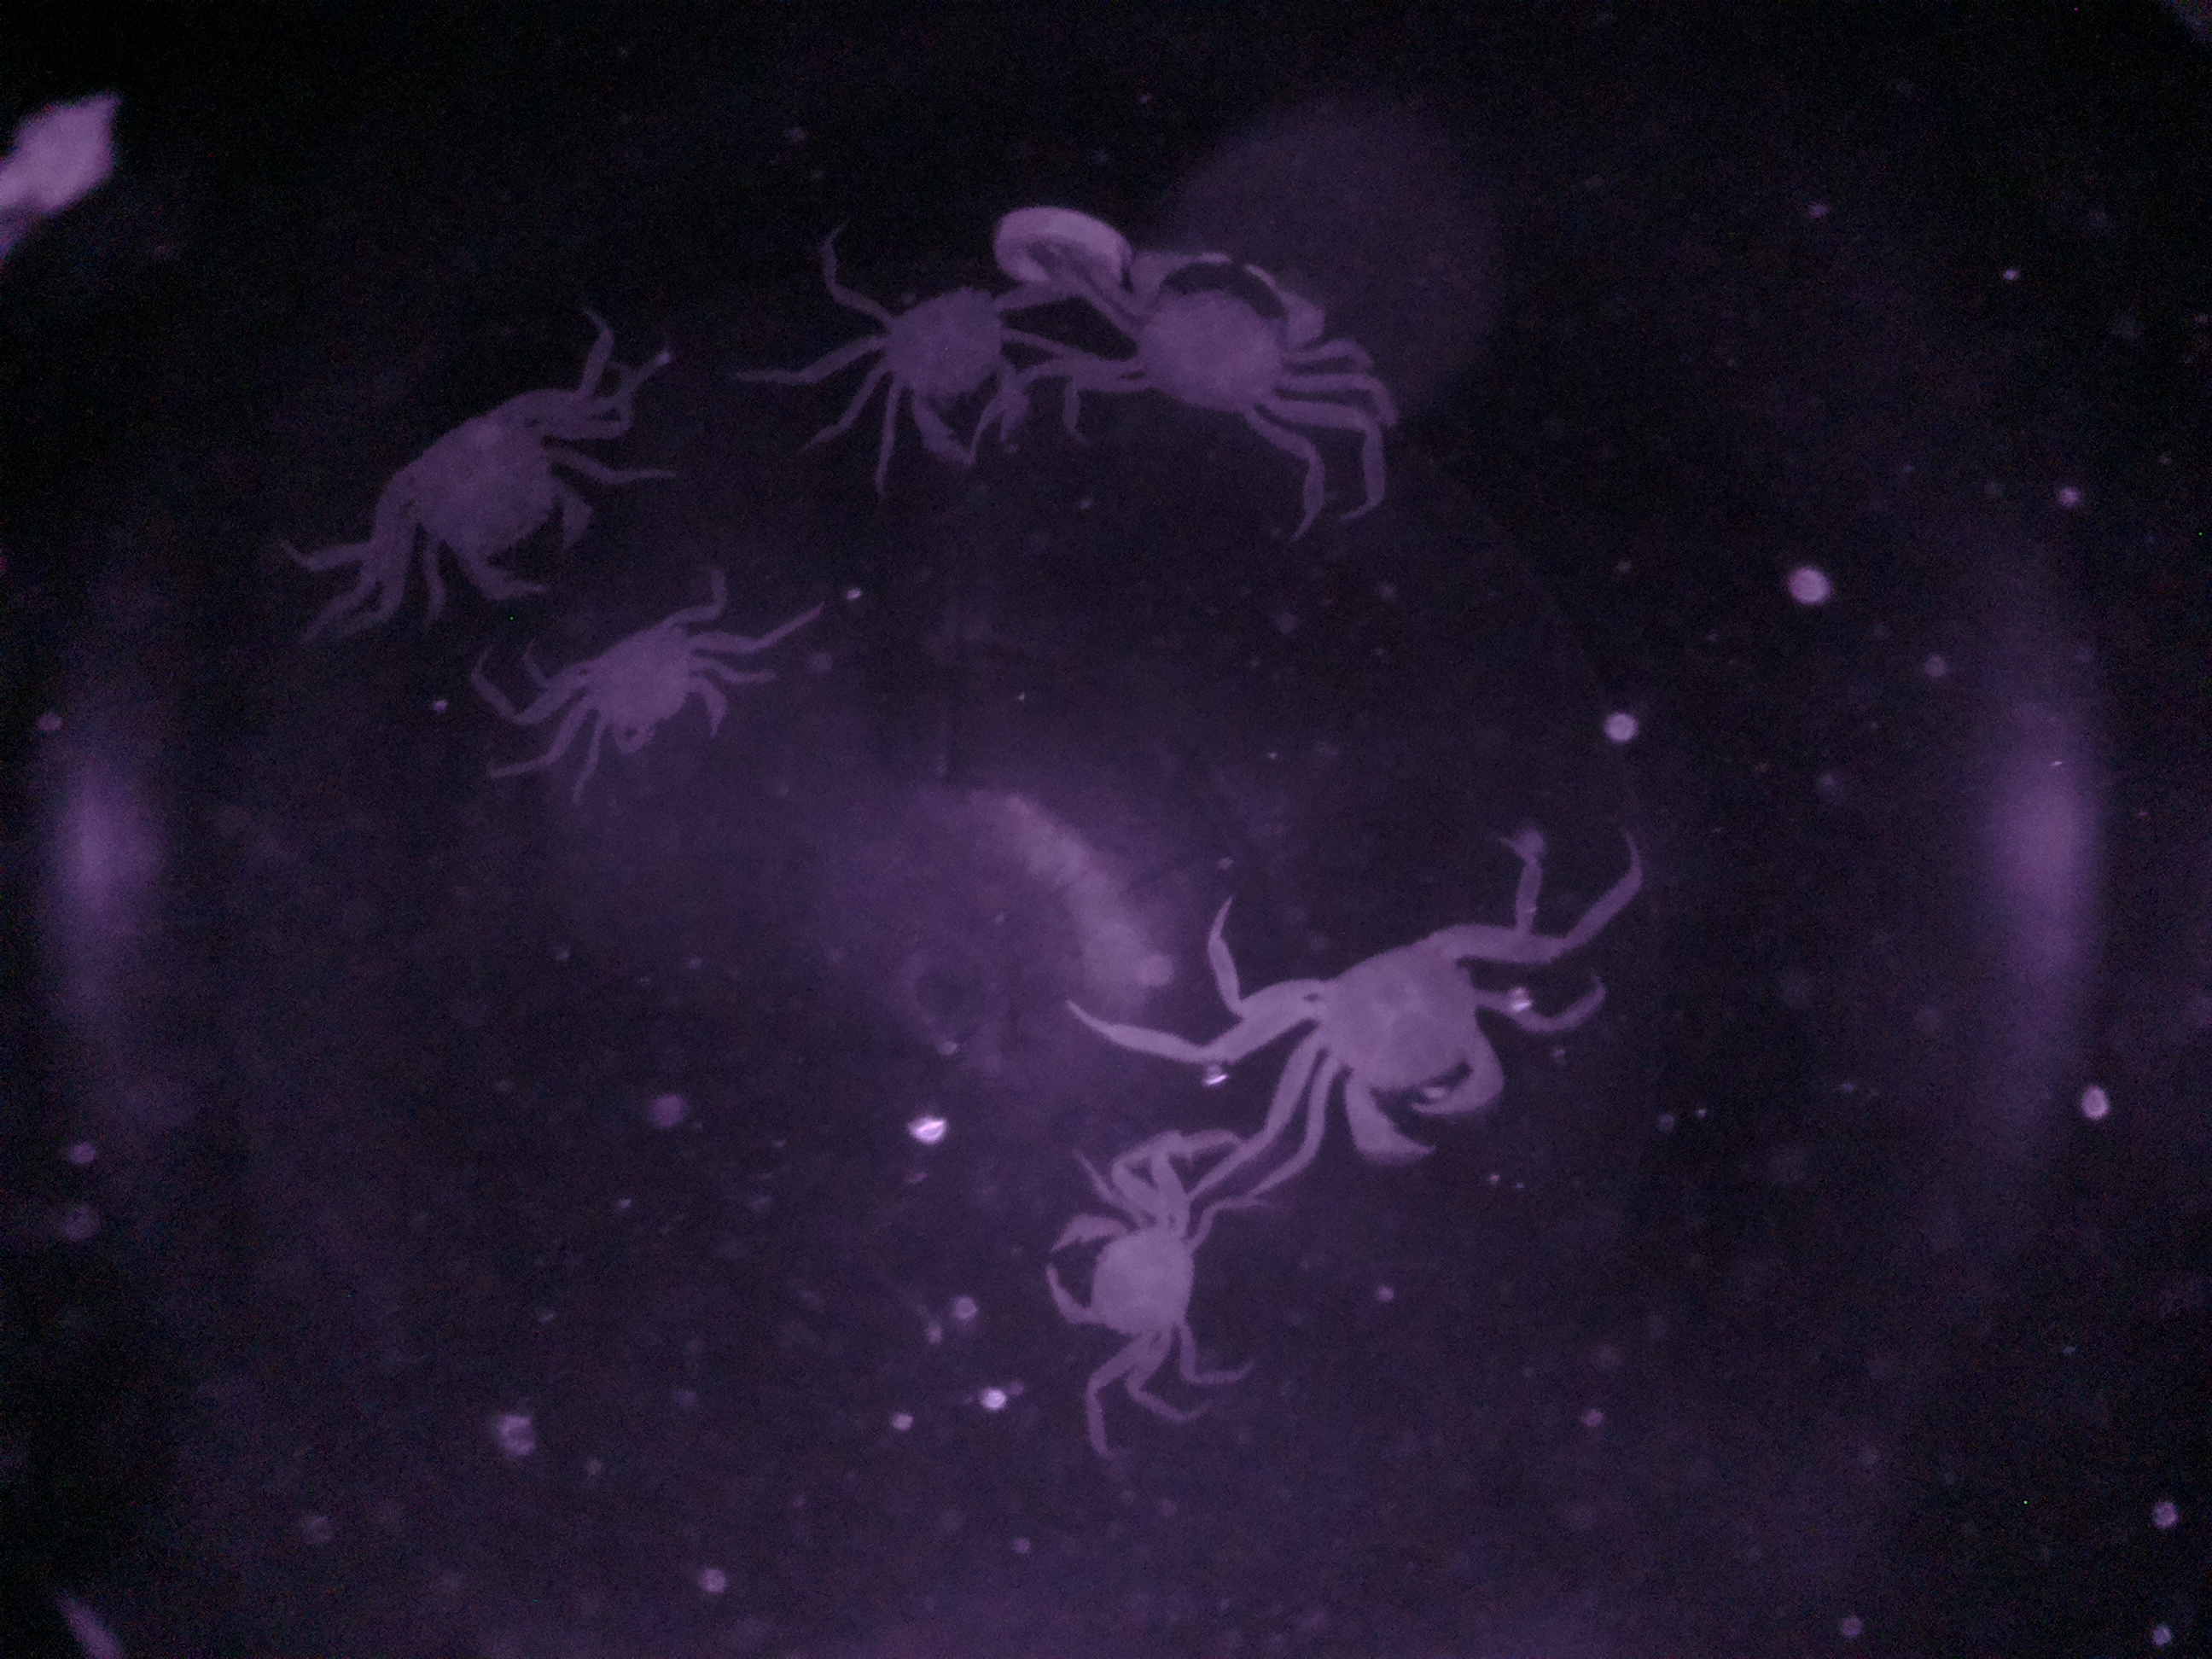Crab: (1244, 894, 1540, 1178), (371, 390, 613, 622), (1092, 228, 1341, 448), (1026, 1157, 1216, 1392), (550, 610, 745, 796)
